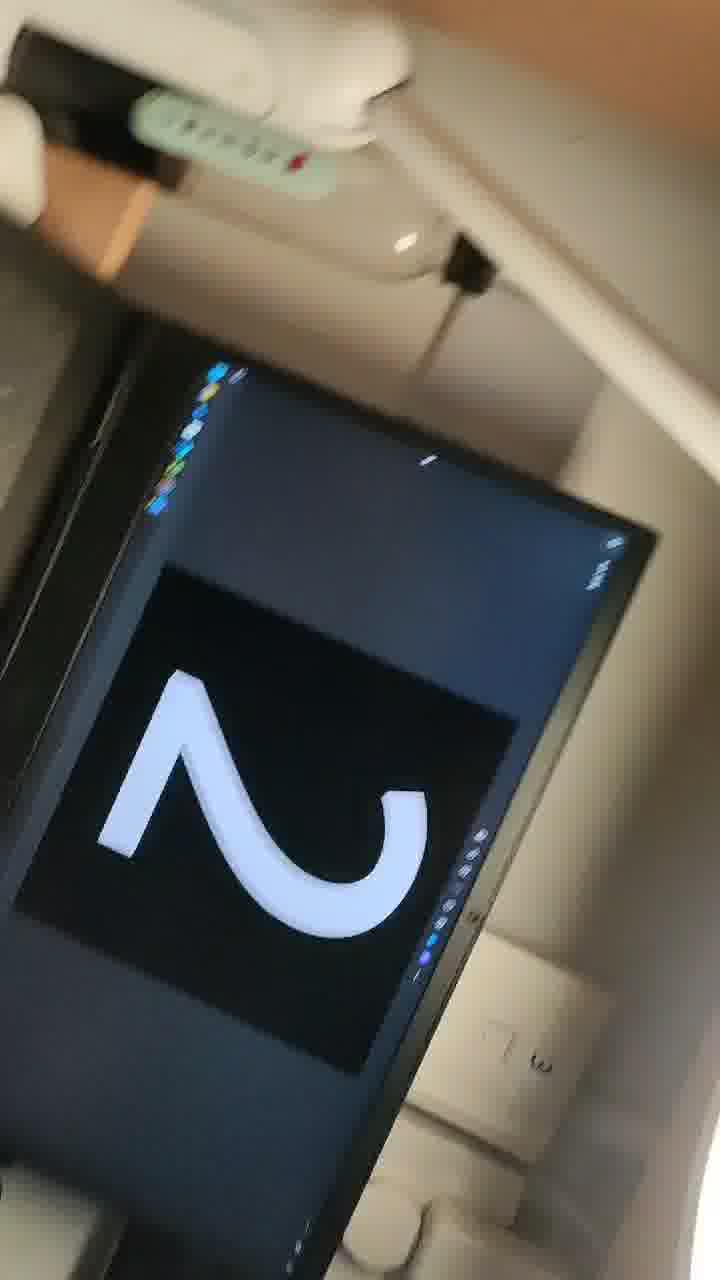two: (108, 641, 521, 1055)
